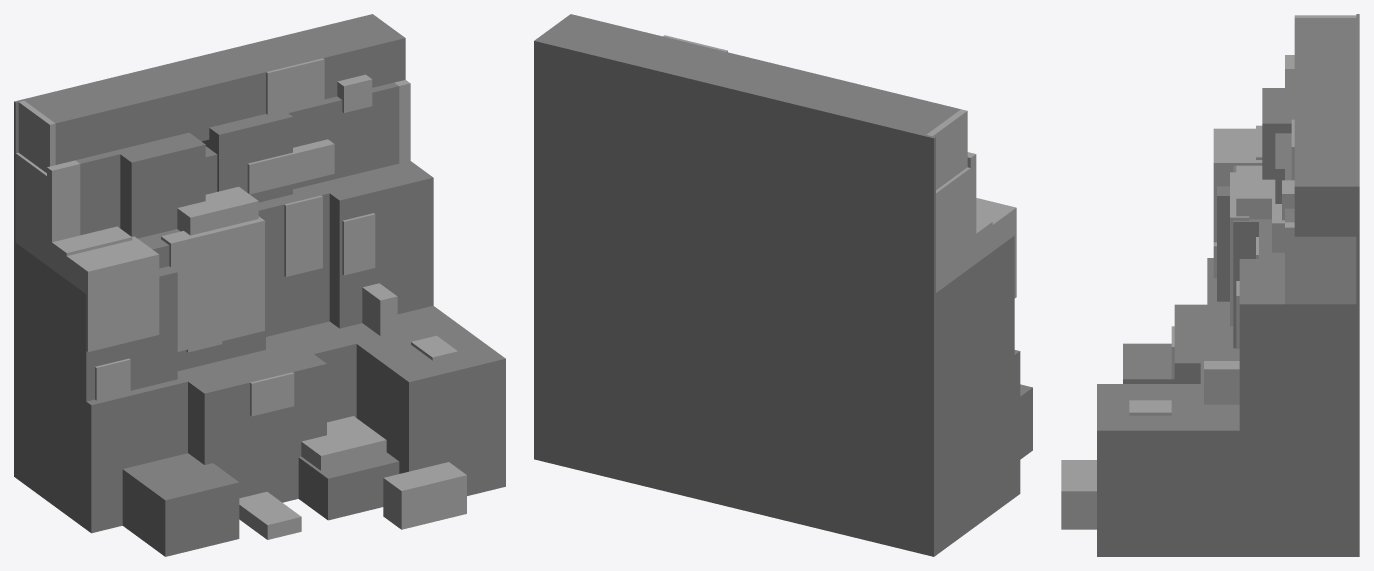
Rendered from RockWall.fbx.
3 views of the same model, side by side, from view 1: azimuth 30°, elevation 25°; view 2: azimuth 150°, elevation 25°; view 3: azimuth 270°, elevation 25° (orthographic). The views are drawn at different scales.
Parts seen in each view (by area): view 1: root; view 2: root; view 3: root.
Part boxes in pixels (bbox=[...]): root: bbox=[14, 14, 505, 556]; root: bbox=[534, 14, 1032, 556]; root: bbox=[1061, 14, 1359, 556].
Bounding box in the file's own units: 0.512 × 0.512 × 0.3738.
Materials: 1 (1 with a texture image).
